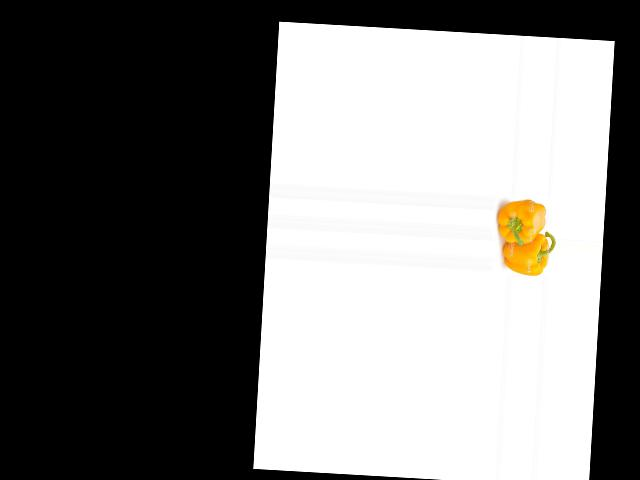bell_pepper: (500, 227, 554, 277)
